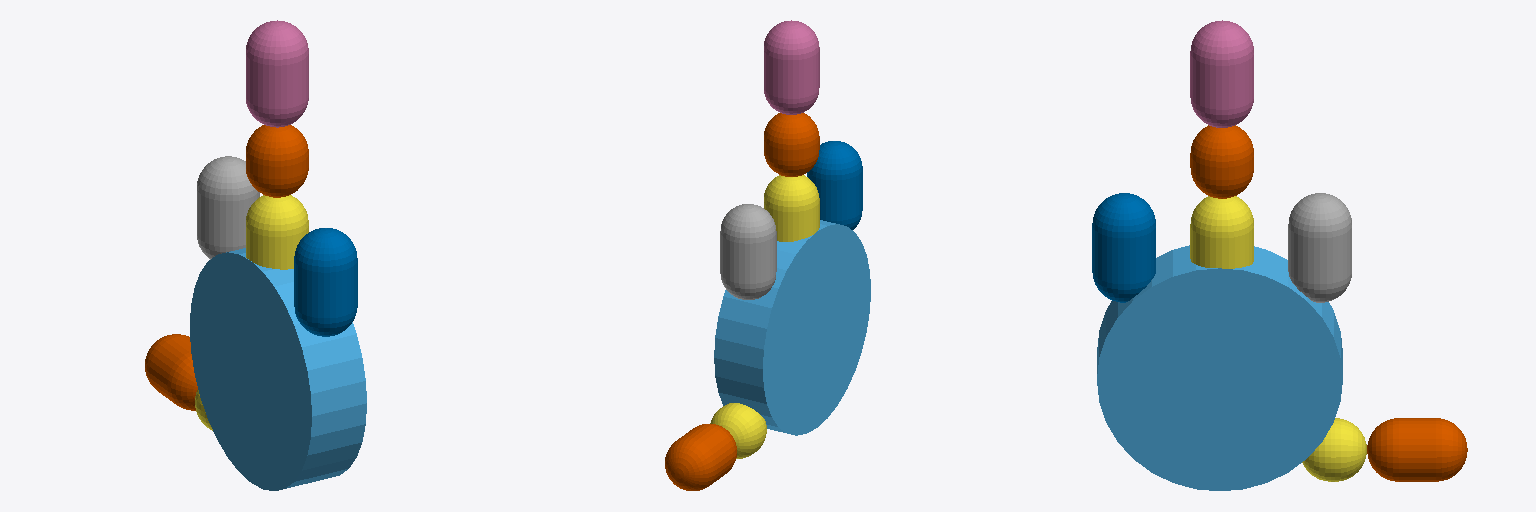
The robot description file, URDF, robot "DexterousHand":
<?xml version="1.0"?>
<robot name="DexterousHand">


    <link name="world"/>
    <joint name="world_to_palm" type="fixed">
        <parent link="world"/>
        <child link="palm"/>
        <origin xyz="0 0 0" rpy="0 0 0"/>
    </joint>
    <link name="palm">
        <inertial>
            <origin xyz="0 0 0.057" rpy="0 0 0"/>
            <mass value="0.30212892864"/>
            <inertia ixx="0.00049080844457568" ixy="0.0" ixz="0.0" iyy="0.00026746366246427523" iyz="0.0" izz="0.00026746366246427523"/>
        </inertial>
        <visual>
            <origin xyz="0 0 0.057" rpy="1.5708 0 1.5708"/>
            <geometry>
                <cylinder radius="0.057" length="0.0296"/>
            </geometry>
            <material name="default"/>
        </visual>
        <collision>
            <origin xyz="0 0 0.057" rpy="1.5708 0 1.5708"/>
            <geometry>
                <cylinder radius="0.057" length="0.0296"/>
            </geometry>
        </collision>
    </link>

    
    <joint name="thumb_joint1" type="revolute">
        <parent link="palm"/>
        <child link="thumb_base"/>
        <origin xyz="0.0029 0.0368 0.0157" rpy="-1.5708 -1.5708 0.0"/>
        <axis xyz="-1 0 0"/>
        <limit lower="-0.349" upper="2.094" effort="1.0" velocity="1.0"/>
    </joint>

    <link name="thumb_base"></link>

    <joint name="thumb_joint2" type="revolute">
        <parent link="thumb_base"/>
        <child link="thumb_proximal"/>
        <origin xyz="0.0 0.0 0.0" rpy="0.0 0.0 0.0"/>
        <axis xyz="0 0 1"/>
        <limit lower="-0.47" upper="2.443" effort="1.0" velocity="1.0"/>
    </joint>

    <link name="thumb_proximal">
        <inertial>
            <origin xyz="0 0 0.01565" rpy="0 0 0"/>
            <mass value="0.021538658803200002"/>
            <inertia ixx="2.9378910096388167e-06" ixy="0.0" ixz="0.0" 
            iyy="2.9378910096388167e-06" iyz="0.0" izz="2.358913912126464e-06"/>
        </inertial>
        <visual>
            <origin xyz="0 0 0.01565" rpy="0 0 0"/>
            <geometry>
                <cylinder radius="0.0148" length="0.0017000000000000001"/>
            </geometry>
            <material name="default"/>
        </visual>
        <visual>
            <origin xyz="0 0 0.0148" rpy="0 0 0"/>
            <geometry>
                <sphere radius="0.0148"/>
            </geometry>
            <material name="default"/>
        </visual>
        <visual>
            <origin xyz="0 0 0.0165" rpy="0 0 0"/>
            <geometry>
                <sphere radius="0.0148"/>
            </geometry>
            <material name="default"/>
        </visual>
        <collision>
            <origin xyz="0 0 0.01565" rpy="0 0 0"/>
            <geometry>
                <cylinder radius="0.0148" length="0.0017000000000000001"/>
            </geometry>
        </collision>
        <collision>
            <origin xyz="0 0 0.0148" rpy="0 0 0"/>
            <geometry>
                <sphere radius="0.0148"/>
            </geometry>
        </collision>
        <collision>
            <origin xyz="0 0 0.0165" rpy="0 0 0"/>
            <geometry>
                <sphere radius="0.0148"/>
            </geometry>
        </collision>
    </link>

    <joint name="thumb_joint3" type="revolute">
        <parent link="thumb_proximal"/>
        <child link="thumb_knuckle"/>
        <origin xyz="0.0 0.0 0.0313" rpy="0.0 0.0 0.0"/>
        <axis xyz="1 0 0"/>
        <limit lower="0.0" upper="0.0" effort="1.0" velocity="1.0"/>
    </joint>

    <link name="thumb_knuckle"></link>

    <joint name="thumb_joint4" type="revolute">
        <parent link="thumb_knuckle"/>
        <child link="thumb_middle"/>
        <origin xyz="0 0 0" rpy="0 0 0"/> 
        <axis xyz="0 1 0"/>
        <limit lower="-1.2" upper="1.9" effort="1.0" velocity="1.0"/>
    </joint>

    <link name="thumb_middle">
        <inertial>
            <origin xyz="0 0 0.0233" rpy="0 0 0"/>
            <mass value="0.032067140582400004"/>
            <inertia ixx="7.5589732685519385e-06" ixy="0.0" ixz="0.0" 
            iyy="7.5589732685519385e-06" iyz="0.0" izz="3.5119932365844485e-06"/>
        </inertial>
        <visual>
            <origin xyz="0 0 0.0233" rpy="0 0 0"/>
            <geometry>
                <cylinder radius="0.0148" length="0.017"/>
            </geometry>
            <material name="default"/>
        </visual>
        <visual>
            <origin xyz="0 0 0.0148" rpy="0 0 0"/>
            <geometry>
                <sphere radius="0.0148"/>
            </geometry>
            <material name="default"/>
        </visual>
        <visual>
            <origin xyz="0 0 0.0318" rpy="0 0 0"/>
            <geometry>
                <sphere radius="0.0148"/>
            </geometry>
            <material name="default"/>
        </visual>
        <collision>
            <origin xyz="0 0 0.0233" rpy="0 0 0"/>
            <geometry>
                <cylinder radius="0.0148" length="0.017"/>
            </geometry>
        </collision>
        <collision>
            <origin xyz="0 0 0.0148" rpy="0 0 0"/>
            <geometry>
                <sphere radius="0.0148"/>
            </geometry>
        </collision>
        <collision>
            <origin xyz="0 0 0.0318" rpy="0 0 0"/>
            <geometry>
                <sphere radius="0.0148"/>
            </geometry>
        </collision>
    </link>

    <joint name="thumb_joint5" type="revolute">
        <parent link="thumb_middle"/>
        <child link="thumb_distal"/>
        <origin xyz="0 0 0.0466" rpy="0 0 0"/> 
        <axis xyz="0 1 0"/>
        <limit lower="0.0" upper="0.0" effort="1.0" velocity="1.0"/>
    </joint>

    <link name="thumb_distal">
    </link>

    
    <joint name="index_joint1" type="revolute">
        <parent link="palm"/>
        <child link="index_proximal"/>
        <origin xyz="0.0 0.0465 0.091" rpy="0.0 0.0 0.0"/>
        <axis xyz="0 1 0"/>
        <limit lower="-0.314" upper="2.23" effort="1.0" velocity="1.0"/>
    </joint>

    <link name="index_proximal">
        <inertial>
            <origin xyz="0 0 0.02655" rpy="0 0 0"/>
            <mass value="0.036540024998400006"/>
            <inertia ixx="1.058665009272394e-05" ixy="0.0" ixz="0.0" 
            iyy="1.058665009272394e-05" iyz="0.0" izz="4.001863537824769e-06"/>
        </inertial>
        <visual>
            <origin xyz="0 0 0.02655" rpy="0 0 0"/>
            <geometry>
                <cylinder radius="0.0148" length="0.0235"/>
            </geometry>
            <material name="default"/>
        </visual>
        <visual>
            <origin xyz="0 0 0.0148" rpy="0 0 0"/>
            <geometry>
                <sphere radius="0.0148"/>
            </geometry>
            <material name="default"/>
        </visual>
        <visual>
            <origin xyz="0 0 0.0383" rpy="0 0 0"/>
            <geometry>
                <sphere radius="0.0148"/>
            </geometry>
            <material name="default"/>
        </visual>
        <collision>
            <origin xyz="0 0 0.02655" rpy="0 0 0"/>
            <geometry>
                <cylinder radius="0.0148" length="0.0235"/>
            </geometry>
        </collision>
        <collision>
            <origin xyz="0 0 0.0148" rpy="0 0 0"/>
            <geometry>
                <sphere radius="0.0148"/>
            </geometry>
        </collision>
        <collision>
            <origin xyz="0 0 0.0383" rpy="0 0 0"/>
            <geometry>
                <sphere radius="0.0148"/>
            </geometry>
        </collision>
    </link>

    <joint name="index_joint2" type="revolute">
        <parent link="index_proximal"/>
        <child link="index_dummy"/>
        <origin xyz="0.0 0.0 0.038" rpy="0.0 0.0 0.0"/>
        <axis xyz="0 1 0"/>
        <limit lower="0.0" upper="0.0" effort="1.0" velocity="1.0"/>
    </joint>

    <link name="index_dummy"></link>

    <joint name="index_joint3" type="revolute">
        <parent link="index_dummy"/>
        <child link="index_middle"/>
        <origin xyz="0 0 0.015100000000000002" rpy="0 0 0"/>
        <axis xyz="0 1 0"/>
        <limit lower="0.0" upper="0.0" effort="1.0" velocity="1.0"/>
    </joint>

    <link name="index_middle">
    </link>

    <joint name="index_joint4" type="revolute">
        <parent link="index_middle"/>
        <child link="index_distal"/>
        <origin xyz="0 0 0" rpy="0 0 0"/> 
        <axis xyz="0 1 0"/>
        <limit lower="0.0" upper="0.0" effort="1.0" velocity="1.0"/>
    </joint>

    <link name="index_distal">
    </link>

    
    <joint name="middle_joint1" type="revolute">
        <parent link="palm"/>
        <child link="middle_proximal"/>
        <origin xyz="0.0 0.0011 0.091" rpy="0.0 0.0 0.0"/>
        <axis xyz="0 1 0"/>
        <limit lower="-0.314" upper="2.23" effort="1.0" velocity="1.0"/>
    </joint>

    <link name="middle_proximal">
        <inertial>
            <origin xyz="0 0 0.02655" rpy="0 0 0"/>
            <mass value="0.036540024998400006"/>
            <inertia ixx="1.058665009272394e-05" ixy="0.0" ixz="0.0" 
            iyy="1.058665009272394e-05" iyz="0.0" izz="4.001863537824769e-06"/>
        </inertial>
        <visual>
            <origin xyz="0 0 0.02655" rpy="0 0 0"/>
            <geometry>
                <cylinder radius="0.0148" length="0.0235"/>
            </geometry>
            <material name="default"/>
        </visual>
        <visual>
            <origin xyz="0 0 0.0148" rpy="0 0 0"/>
            <geometry>
                <sphere radius="0.0148"/>
            </geometry>
            <material name="default"/>
        </visual>
        <visual>
            <origin xyz="0 0 0.0383" rpy="0 0 0"/>
            <geometry>
                <sphere radius="0.0148"/>
            </geometry>
            <material name="default"/>
        </visual>
        <collision>
            <origin xyz="0 0 0.02655" rpy="0 0 0"/>
            <geometry>
                <cylinder radius="0.0148" length="0.0235"/>
            </geometry>
        </collision>
        <collision>
            <origin xyz="0 0 0.0148" rpy="0 0 0"/>
            <geometry>
                <sphere radius="0.0148"/>
            </geometry>
        </collision>
        <collision>
            <origin xyz="0 0 0.0383" rpy="0 0 0"/>
            <geometry>
                <sphere radius="0.0148"/>
            </geometry>
        </collision>
    </link>

    <joint name="middle_joint2" type="revolute">
        <parent link="middle_proximal"/>
        <child link="middle_dummy"/>
        <origin xyz="0.0 0.0 0.038" rpy="0.0 0.0 0.0"/>
        <axis xyz="1 0 0"/>
        <limit lower="-1.047" upper="1.047" effort="1.0" velocity="1.0"/>
    </joint>

    <link name="middle_dummy"></link>

    <joint name="middle_joint3" type="revolute">
        <parent link="middle_dummy"/>
        <child link="middle_middle"/>
        <origin xyz="0 0 0.015100000000000002" rpy="0 0 0"/>
        <axis xyz="0 1 0"/>
        <limit lower="-0.506" upper="1.885" effort="1.0" velocity="1.0"/>
    </joint>

    <link name="middle_middle">
        <inertial>
            <origin xyz="0 0 0.01805" rpy="0 0 0"/>
            <mass value="0.0248417119104"/>
            <inertia ixx="4.058162759109537e-06" ixy="0.0" ixz="0.0" 
            iyy="4.058162759109537e-06" iyz="0.0" izz="2.7206642884270085e-06"/>
        </inertial>
        <visual>
            <origin xyz="0 0 0.01805" rpy="0 0 0"/>
            <geometry>
                <cylinder radius="0.0148" length="0.006499999999999999"/>
            </geometry>
            <material name="default"/>
        </visual>
        <visual>
            <origin xyz="0 0 0.0148" rpy="0 0 0"/>
            <geometry>
                <sphere radius="0.0148"/>
            </geometry>
            <material name="default"/>
        </visual>
        <visual>
            <origin xyz="0 0 0.0213" rpy="0 0 0"/>
            <geometry>
                <sphere radius="0.0148"/>
            </geometry>
            <material name="default"/>
        </visual>
        <collision>
            <origin xyz="0 0 0.01805" rpy="0 0 0"/>
            <geometry>
                <cylinder radius="0.0148" length="0.006499999999999999"/>
            </geometry>
        </collision>
        <collision>
            <origin xyz="0 0 0.0148" rpy="0 0 0"/>
            <geometry>
                <sphere radius="0.0148"/>
            </geometry>
        </collision>
        <collision>
            <origin xyz="0 0 0.0213" rpy="0 0 0"/>
            <geometry>
                <sphere radius="0.0148"/>
            </geometry>
        </collision>
    </link>

    <joint name="middle_joint4" type="revolute">
        <parent link="middle_middle"/>
        <child link="middle_distal"/>
        <origin xyz="0 0 0.0361" rpy="0 0 0"/> 
        <axis xyz="0 1 0"/>
        <limit lower="-0.366" upper="2.042" effort="1.0" velocity="1.0"/>
    </joint>

    <link name="middle_distal">
        <inertial>
            <origin xyz="0 0 0.026" rpy="0 0 0"/>
            <mass value="0.035783075328"/>
            <inertia ixx="1.002260084553728e-05" ixy="0.0" ixz="0.0" 
            iyy="1.002260084553728e-05" iyz="0.0" izz="3.91896240992256e-06"/>
        </inertial>
        <visual>
            <origin xyz="0 0 0.026" rpy="0 0 0"/>
            <geometry>
                <cylinder radius="0.0148" length="0.022399999999999996"/>
            </geometry>
            <material name="default"/>
        </visual>
        <visual>
            <origin xyz="0 0 0.0148" rpy="0 0 0"/>
            <geometry>
                <sphere radius="0.0148"/>
            </geometry>
            <material name="default"/>
        </visual>
        <visual>
            <origin xyz="0 0 0.0372" rpy="0 0 0"/>
            <geometry>
                <sphere radius="0.0148"/>
            </geometry>
            <material name="default"/>
        </visual>
        <collision>
            <origin xyz="0 0 0.026" rpy="0 0 0"/>
            <geometry>
                <cylinder radius="0.0148" length="0.022399999999999996"/>
            </geometry>
        </collision>
        <collision>
            <origin xyz="0 0 0.0148" rpy="0 0 0"/>
            <geometry>
                <sphere radius="0.0148"/>
            </geometry>
        </collision>
        <collision>
            <origin xyz="0 0 0.0372" rpy="0 0 0"/>
            <geometry>
                <sphere radius="0.0148"/>
            </geometry>
        </collision>
    </link>

    
    <joint name="ring_joint1" type="revolute">
        <parent link="palm"/>
        <child link="ring_proximal"/>
        <origin xyz="0.0 0.0 0.0" rpy="0.0 0.0 0.0"/>
        <axis xyz="1 0 0"/>
        <limit lower="0.0" upper="0.0" effort="1.0" velocity="1.0"/>
    </joint>

    <link name="ring_proximal">
    </link>

    <joint name="ring_joint2" type="revolute">
        <parent link="ring_proximal"/>
        <child link="ring_dummy"/>
        <origin xyz="0.0 0.0 0.0" rpy="0.0 0.0 0.0"/>
        <axis xyz="0 1 0"/>
        <limit lower="0.0" upper="0.0" effort="1.0" velocity="1.0"/>
    </joint>

    <link name="ring_dummy"></link>

    <joint name="ring_joint3" type="revolute">
        <parent link="ring_dummy"/>
        <child link="ring_middle"/>
        <origin xyz="0 0 0" rpy="0 0 0"/>
        <axis xyz="0 1 0"/>
        <limit lower="0.0" upper="0.0" effort="1.0" velocity="1.0"/>
    </joint>

    <link name="ring_middle">
    </link>

    <joint name="ring_joint4" type="revolute">
        <parent link="ring_middle"/>
        <child link="ring_distal"/>
        <origin xyz="0 0 0" rpy="0 0 0"/> 
        <axis xyz="0 1 0"/>
        <limit lower="0.0" upper="0.0" effort="1.0" velocity="1.0"/>
    </joint>

    <link name="ring_distal">
    </link>

    
    <joint name="little_joint0" type="revolute">
        <parent link="palm"/>
        <child link="little_base"/>
        <origin xyz="0.0 0.0 0.0" rpy="0.0 0.0 0.0"/>
        <axis xyz="0 1 0"/>
        <limit lower="0.0" upper="0.0" effort="1.0" velocity="1.0"/>
    </joint>

    <link name="little_base"></link>

    <joint name="little_joint1" type="revolute">
        <parent link="little_base"/>
        <child link="little_proximal"/>
        <origin xyz="0.0 -0.0443 0.091" rpy="-0.0 -0.0 -0.0"/>
        <axis xyz="0 1 0"/>
        <limit lower="-0.314" upper="2.23" effort="1.0" velocity="1.0"/>
    </joint>

    <link name="little_proximal">
        <inertial>
            <origin xyz="0 0 0.02655" rpy="0 0 0"/>
            <mass value="0.036540024998400006"/>
            <inertia ixx="1.058665009272394e-05" ixy="0.0" ixz="0.0" 
            iyy="1.058665009272394e-05" iyz="0.0" izz="4.001863537824769e-06"/>
        </inertial>
        <visual>
            <origin xyz="0 0 0.02655" rpy="0 0 0"/>
            <geometry>
                <cylinder radius="0.0148" length="0.0235"/>
            </geometry>
            <material name="default"/>
        </visual>
        <visual>
            <origin xyz="0 0 0.0148" rpy="0 0 0"/>
            <geometry>
                <sphere radius="0.0148"/>
            </geometry>
            <material name="default"/>
        </visual>
        <visual>
            <origin xyz="0 0 0.0383" rpy="0 0 0"/>
            <geometry>
                <sphere radius="0.0148"/>
            </geometry>
            <material name="default"/>
        </visual>
        <collision>
            <origin xyz="0 0 0.02655" rpy="0 0 0"/>
            <geometry>
                <cylinder radius="0.0148" length="0.0235"/>
            </geometry>
        </collision>
        <collision>
            <origin xyz="0 0 0.0148" rpy="0 0 0"/>
            <geometry>
                <sphere radius="0.0148"/>
            </geometry>
        </collision>
        <collision>
            <origin xyz="0 0 0.0383" rpy="0 0 0"/>
            <geometry>
                <sphere radius="0.0148"/>
            </geometry>
        </collision>
    </link>

    <joint name="little_joint2" type="revolute">
        <parent link="little_proximal"/>
        <child link="little_dummy"/>
        <origin xyz="0.0 0.0 0.038" rpy="0.0 0.0 0.0"/>
        <axis xyz="0 1 0"/>
        <limit lower="0.0" upper="0.0" effort="1.0" velocity="1.0"/>
    </joint>

    <link name="little_dummy"></link>

    <joint name="little_joint3" type="revolute">
        <parent link="little_dummy"/>
        <child link="little_middle"/>
        <origin xyz="0 0 0.015100000000000002" rpy="0 0 0"/>
        <axis xyz="0 1 0"/>
        <limit lower="0.0" upper="0.0" effort="1.0" velocity="1.0"/>
    </joint>

    <link name="little_middle">
    </link>

    <joint name="little_joint4" type="revolute">
        <parent link="little_middle"/>
        <child link="little_distal"/>
        <origin xyz="0 0 0" rpy="0 0 0"/>
        <axis xyz="0 1 0"/>
        <limit lower="0.0" upper="0.0" effort="1.0" velocity="1.0"/>
    </joint>

    <link name="little_distal">
    </link>

</robot>

--- What the picture shows (computed from the rendered views, not written in the file) ---
Views: 3 orthographic renders of the robot side by side, from view 1: azimuth 30°, elevation 25°; view 2: azimuth 150°, elevation 25°; view 3: azimuth 270°, elevation 25°.
Model DexterousHand with 24 links and 23 joints (22 revolute, 1 fixed), rooted at world, posed every joint at zero.
Links seen in each view (by area): view 1: palm, little_proximal, middle_distal, index_proximal, middle_middle, middle_proximal, thumb_middle; view 2: palm, index_proximal, middle_distal, little_proximal, thumb_middle, middle_proximal, middle_middle, thumb_proximal; view 3: palm, index_proximal, middle_distal, little_proximal, thumb_middle, middle_proximal, middle_middle, thumb_proximal.
Boxes of the visible links, x1,y1,x2,y2 form: palm: [190, 248, 366, 490]; little_proximal: [294, 228, 357, 336]; middle_distal: [246, 20, 308, 127]; index_proximal: [197, 156, 259, 259]; middle_middle: [246, 125, 308, 197]; middle_proximal: [246, 195, 308, 269]; thumb_middle: [145, 334, 197, 410]; palm: [714, 220, 870, 435]; index_proximal: [720, 204, 776, 299]; middle_distal: [764, 20, 819, 114]; little_proximal: [807, 141, 862, 229]; thumb_middle: [665, 424, 736, 490]; middle_proximal: [764, 175, 819, 241]; middle_middle: [764, 113, 819, 176]; thumb_proximal: [710, 403, 766, 458]; palm: [1097, 245, 1342, 490]; index_proximal: [1288, 193, 1351, 302]; middle_distal: [1190, 20, 1253, 127]; little_proximal: [1092, 193, 1155, 302]; thumb_middle: [1367, 418, 1467, 481]; middle_proximal: [1190, 196, 1253, 268]; middle_middle: [1190, 125, 1253, 198]; thumb_proximal: [1302, 418, 1366, 481].
Size in the robot's own frame: 0.0325 by 0.1738 by 0.2322 metres.
Geometry: primitives only (box / cylinder / sphere), no mesh files.
